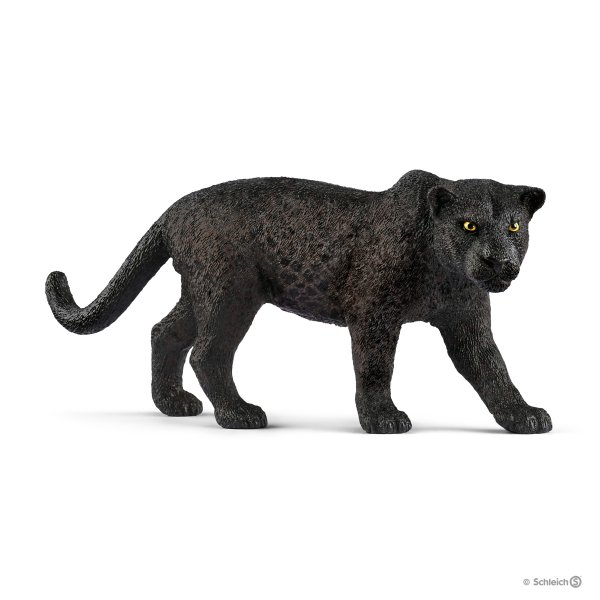panther: (45, 165, 562, 431)
